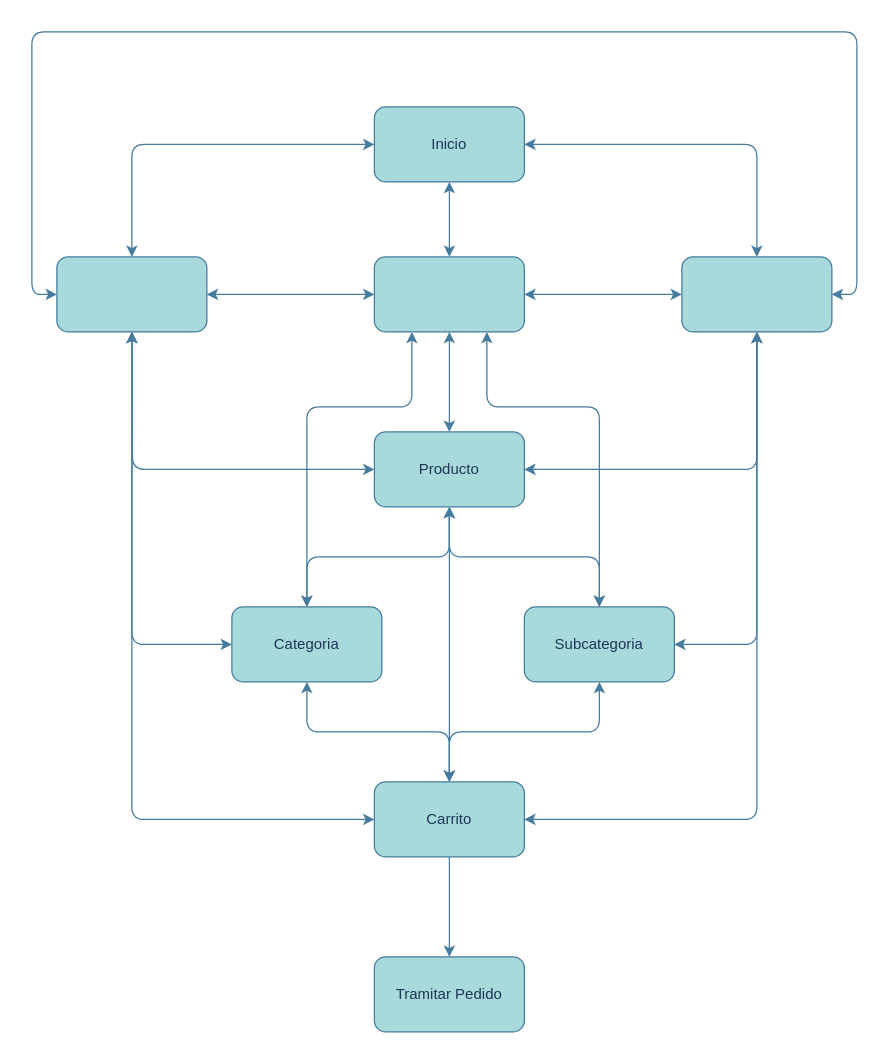
This 890x1054 diagram has some shape labels left out. The shapes that lost their labels are listed below. From the top down, each one's box as (x1, y1, x2, y2) in pixels, then its label:
(56, 256, 207, 332): Iniciar Sesión
(373, 256, 524, 332): Catalogo
(681, 256, 832, 332): Registrase
